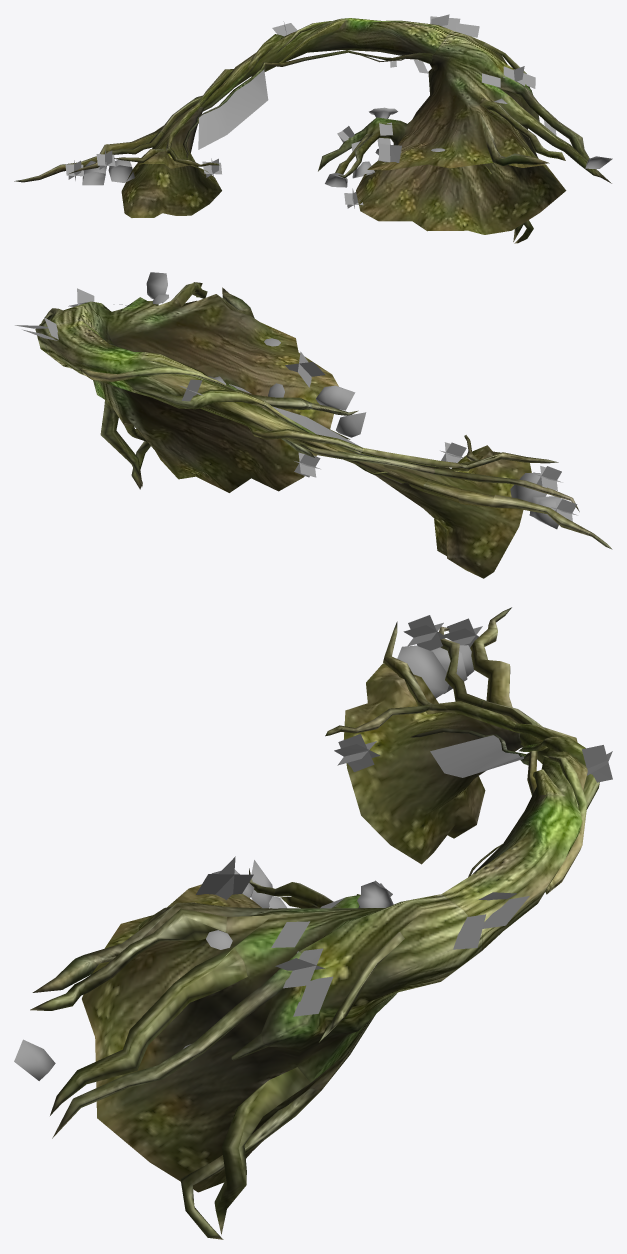
File: S_Tree_Green112_H1.FBX
3 views of the same model, one above another, from view 1: azimuth 30°, elevation 25°; view 2: azimuth 150°, elevation 25°; view 3: azimuth 270°, elevation 25° (orthographic). The views are drawn at different scales.
Parts seen in each view (by area): view 1: S_Tree_Green112_H1_1, S_Tree_Green112_H1_2; view 2: S_Tree_Green112_H1_1, S_Tree_Green112_H1_2; view 3: S_Tree_Green112_H1_1, S_Tree_Green112_H1_2.
Boxes of the visible parts, <box> form: S_Tree_Green112_H1_1: <box>14,18,611,243</box>; S_Tree_Green112_H1_2: <box>65,14,612,208</box>; S_Tree_Green112_H1_1: <box>35,282,612,578</box>; S_Tree_Green112_H1_2: <box>15,272,577,529</box>; S_Tree_Green112_H1_1: <box>30,607,599,1239</box>; S_Tree_Green112_H1_2: <box>14,615,612,1080</box>.
Bounding box in the file's own units: 3679 × 1357 × 2012.
Materials: 2 (1 with a texture image).
